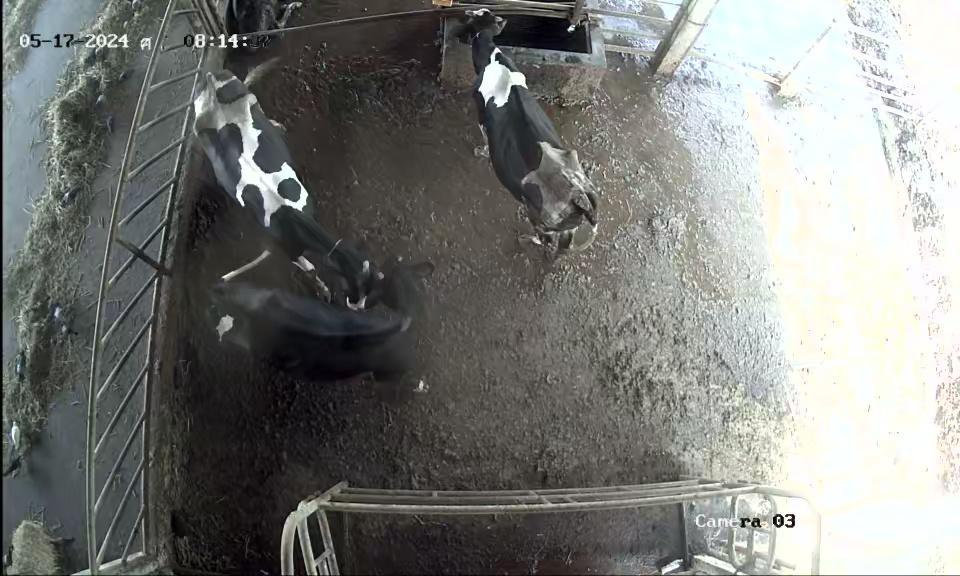drink: (438, 0, 538, 108)
stand: (182, 60, 381, 308), (187, 248, 465, 416)
